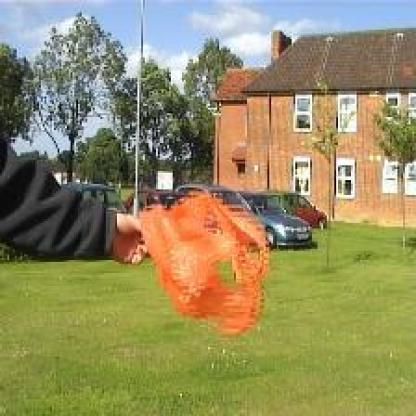other: (122, 195, 272, 334)
